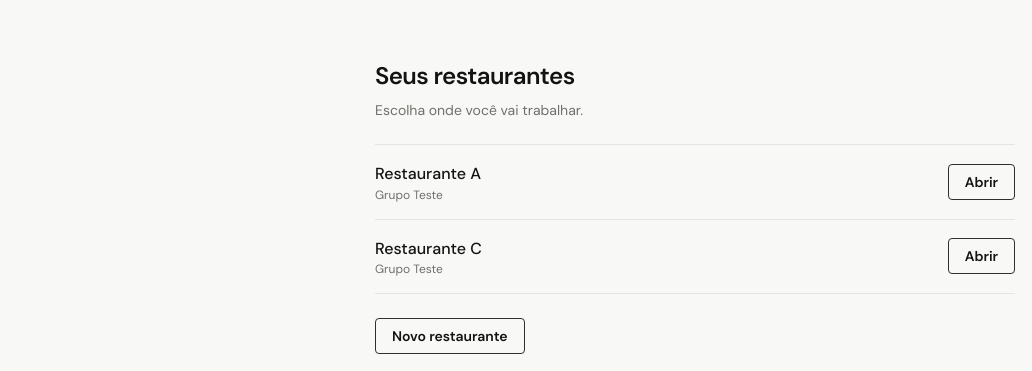
billing return with several restaurants in its organization requires selection there, never in the other tab organization
This screenshot has width=1032, height=371.
expect the text "Restaurante A" is shown: met, box [375,161,481,187]
expect the text "Restaurante C" is shown: met, box [375,236,482,261]
Click the button "Abrir" in the row of "Restaurante A" at [981, 182], box [948,164,1015,200]
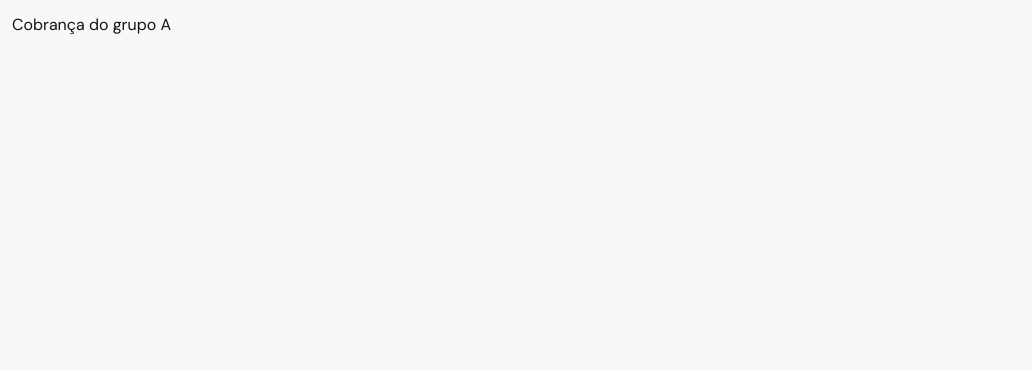
expect the text "Cobrança do grupo A" is shown: met, box [12,14,171,35]
